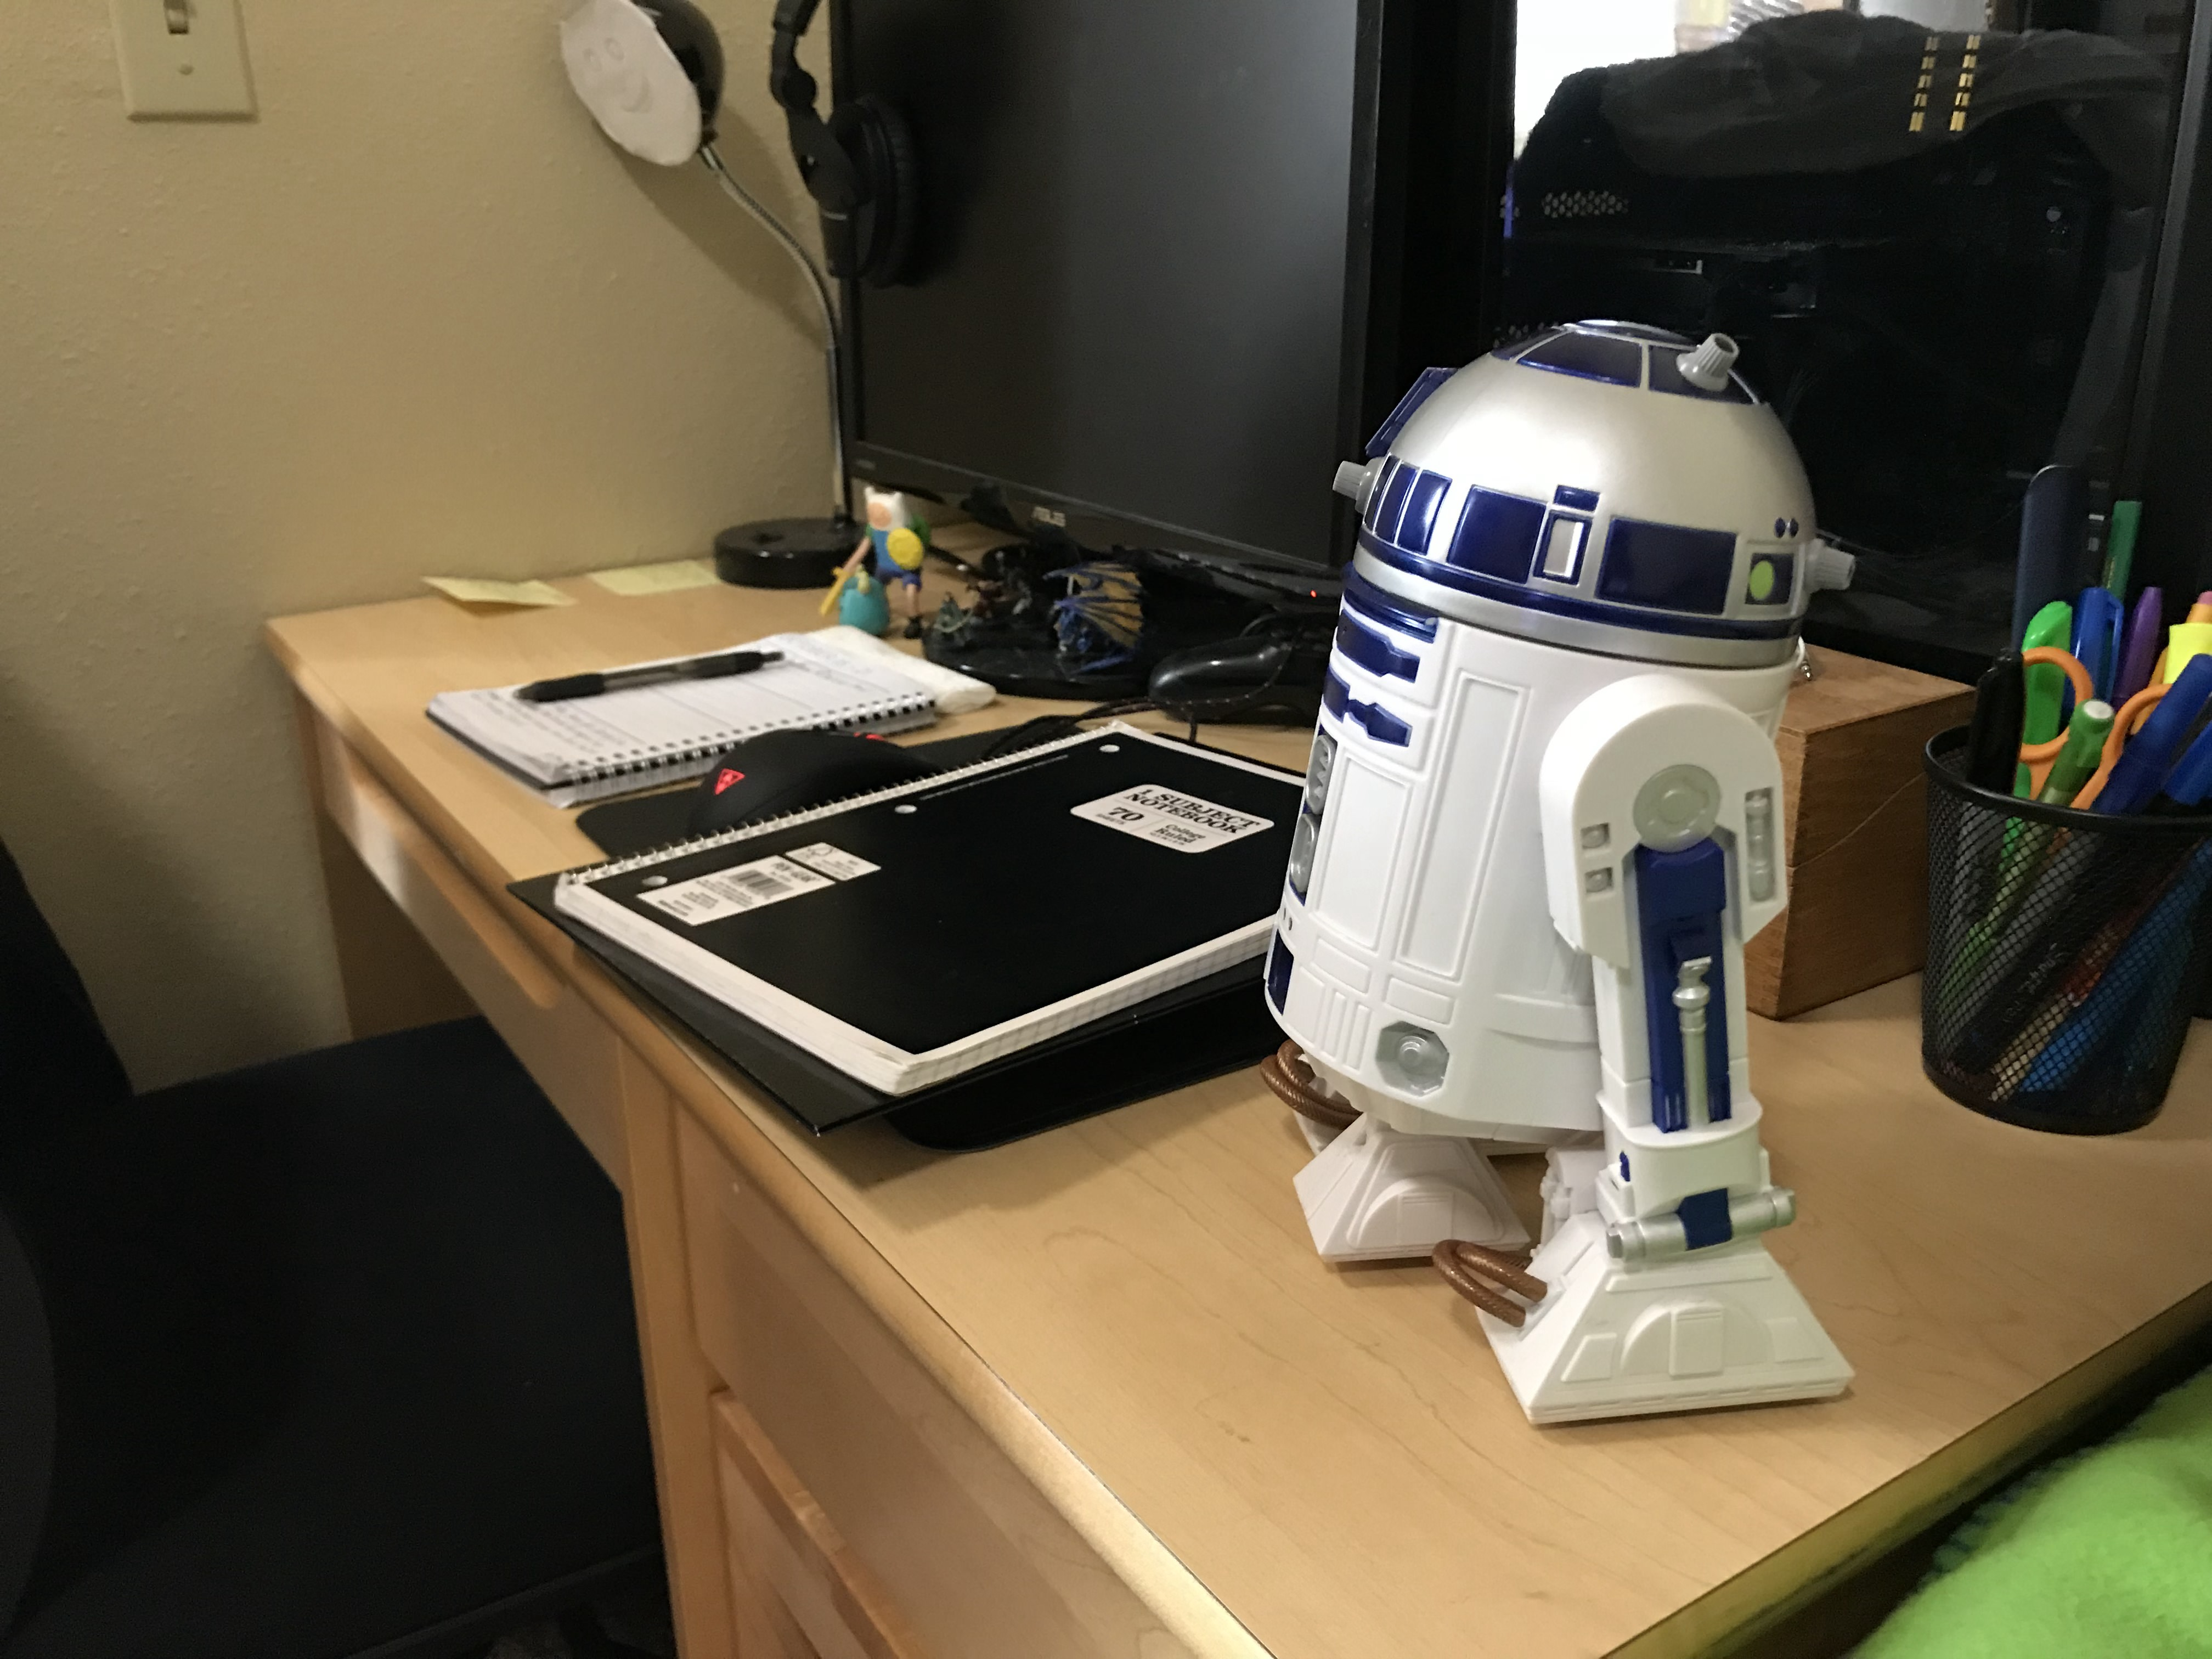r2d2: (1261, 312, 1857, 1424)
